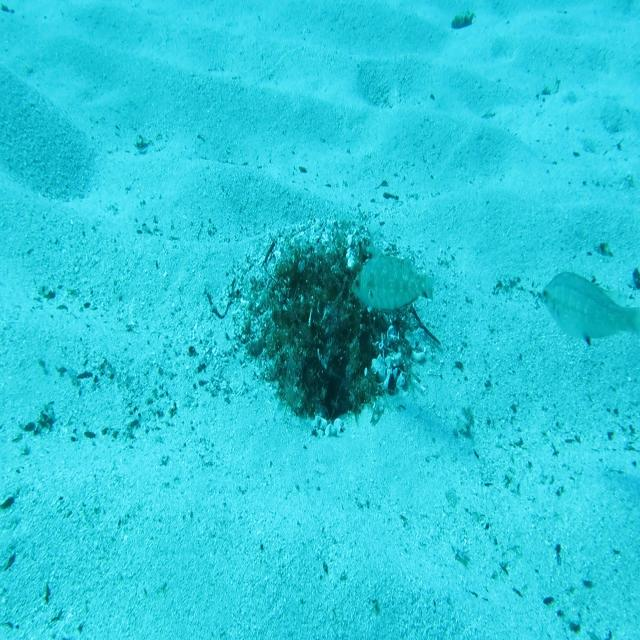ROLL: (349, 244, 436, 318)
core_nest: (300, 266, 350, 304)
female: (540, 269, 640, 359)
nest: (225, 212, 436, 446)
vegetation: (451, 13, 477, 33)
